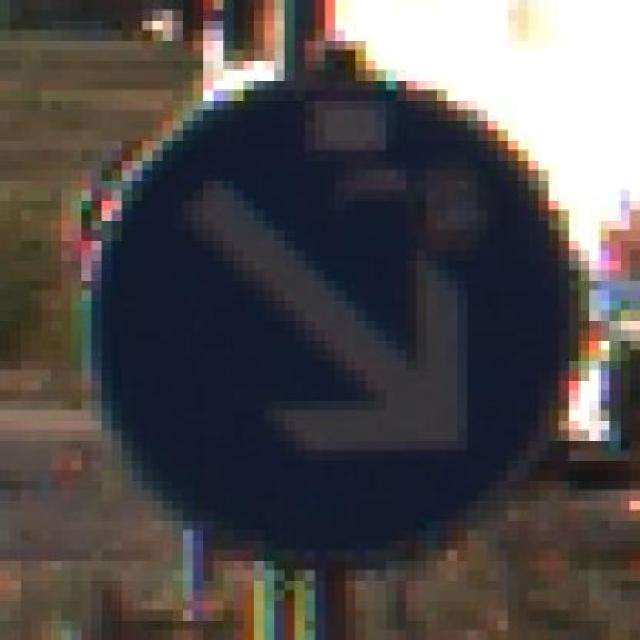Keep-Right: (61, 60, 599, 611)
